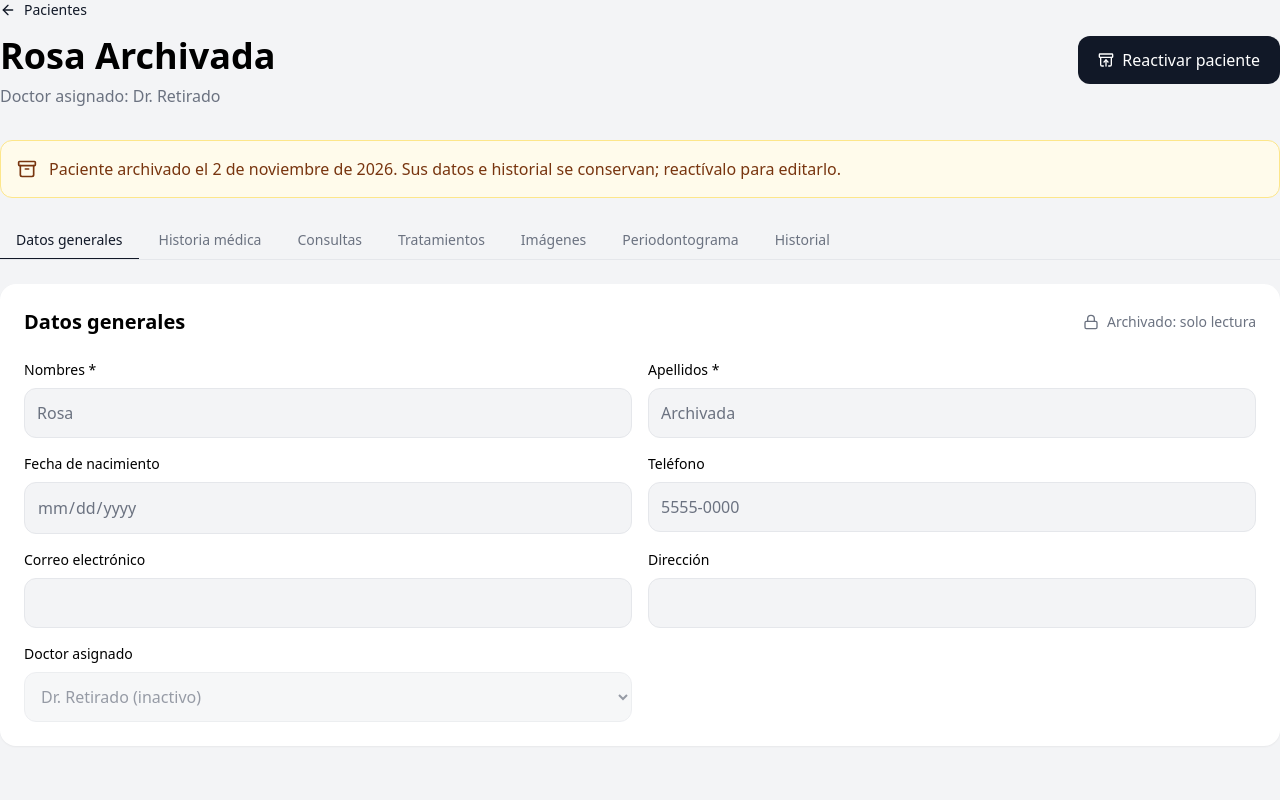
Test: PatientDetailPage › un paciente archivado muestra el aviso, conserva sus datos y se reactiva
The width and height of the screenshot is (1280, 800).
expect the heading "Rosa Archivada" is shown: met, box [0, 36, 275, 76]
expect the message shows "Sus datos e historial se conservan": met, box [393, 158, 841, 180]
Click the button "Reactivar paciente": (1179, 60) [1078, 36, 1279, 84]
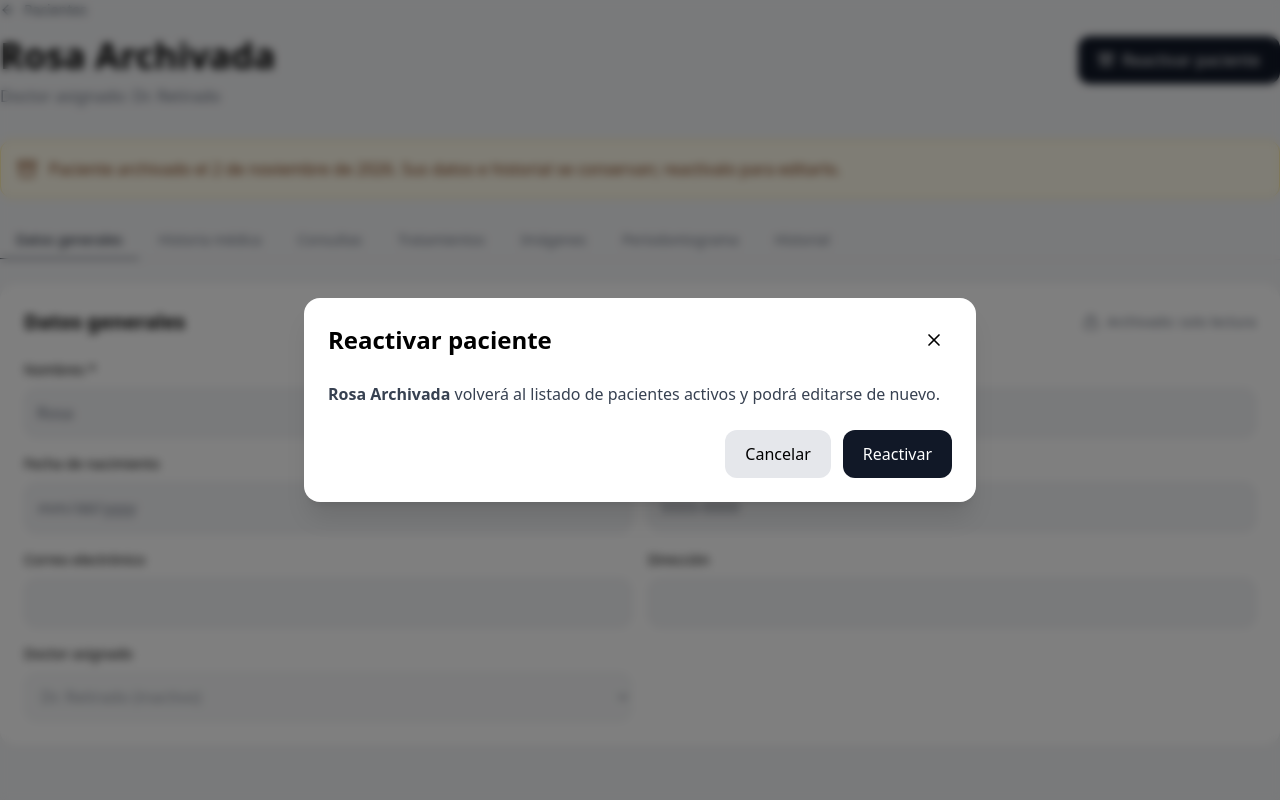
Click the button "Reactivar": (897, 454) [843, 430, 952, 478]
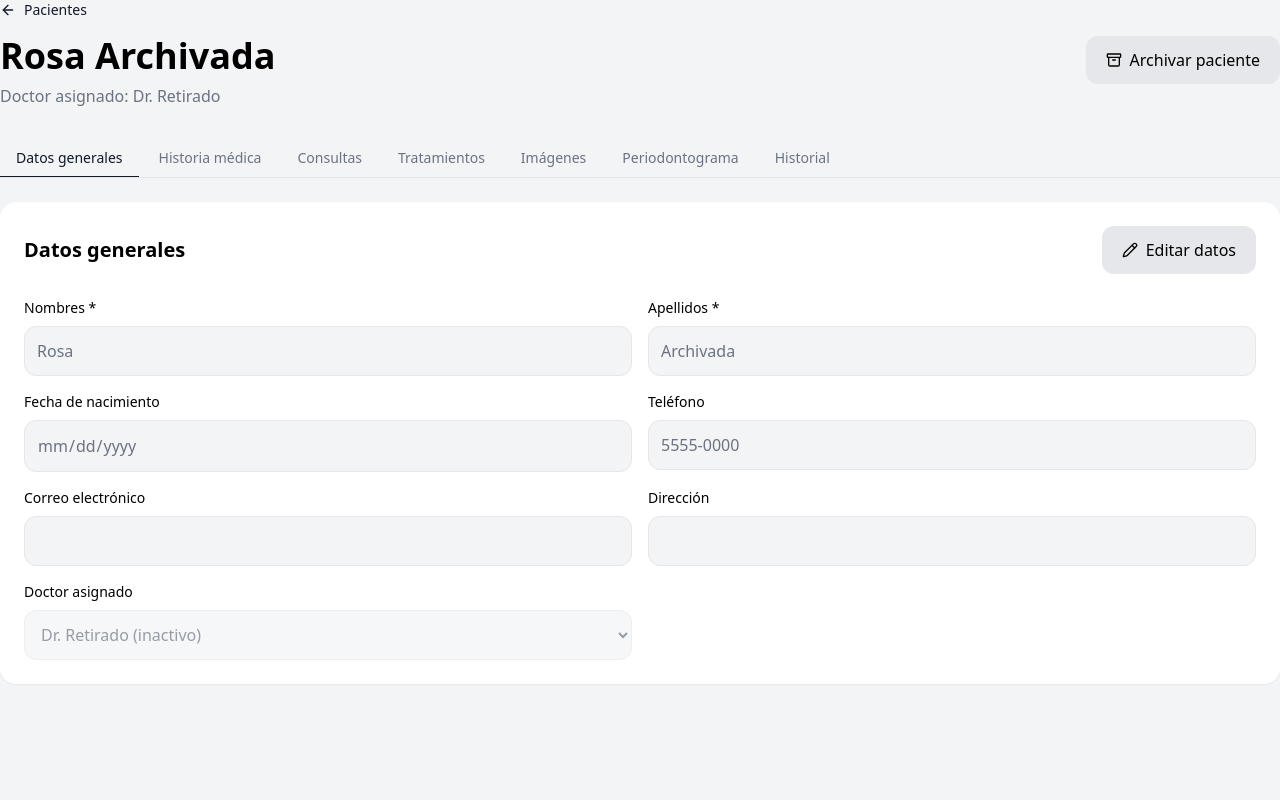
expect the button "Editar datos" is shown: met, box [1102, 226, 1256, 274]
expect the message is gone: met
